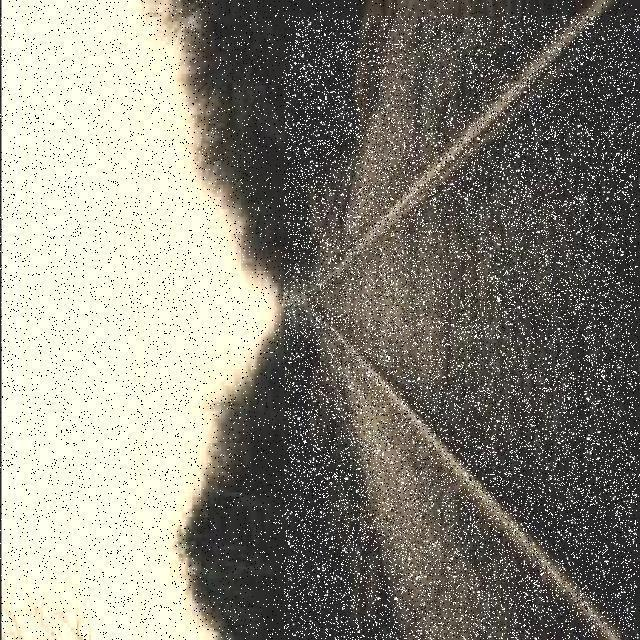rail: (286, 18, 637, 640)
